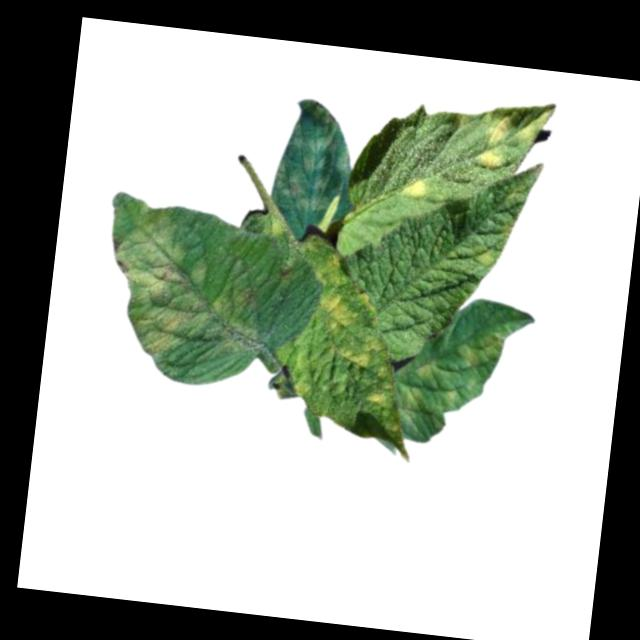Leaf_Mold: (103, 197, 272, 369), (396, 316, 510, 439), (265, 93, 364, 215), (472, 96, 554, 175), (315, 285, 380, 337), (331, 332, 386, 370), (396, 174, 430, 205), (467, 242, 497, 276), (360, 386, 392, 410)
